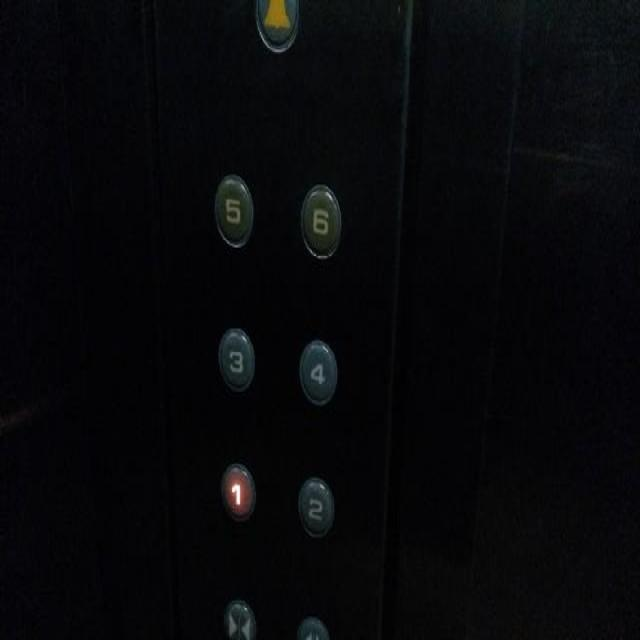1: (218, 456, 258, 524)
2: (295, 471, 335, 540)
3: (218, 322, 255, 390)
4: (298, 333, 338, 408)
5: (213, 171, 254, 248)
6: (298, 180, 342, 260)
close: (222, 594, 257, 638)
